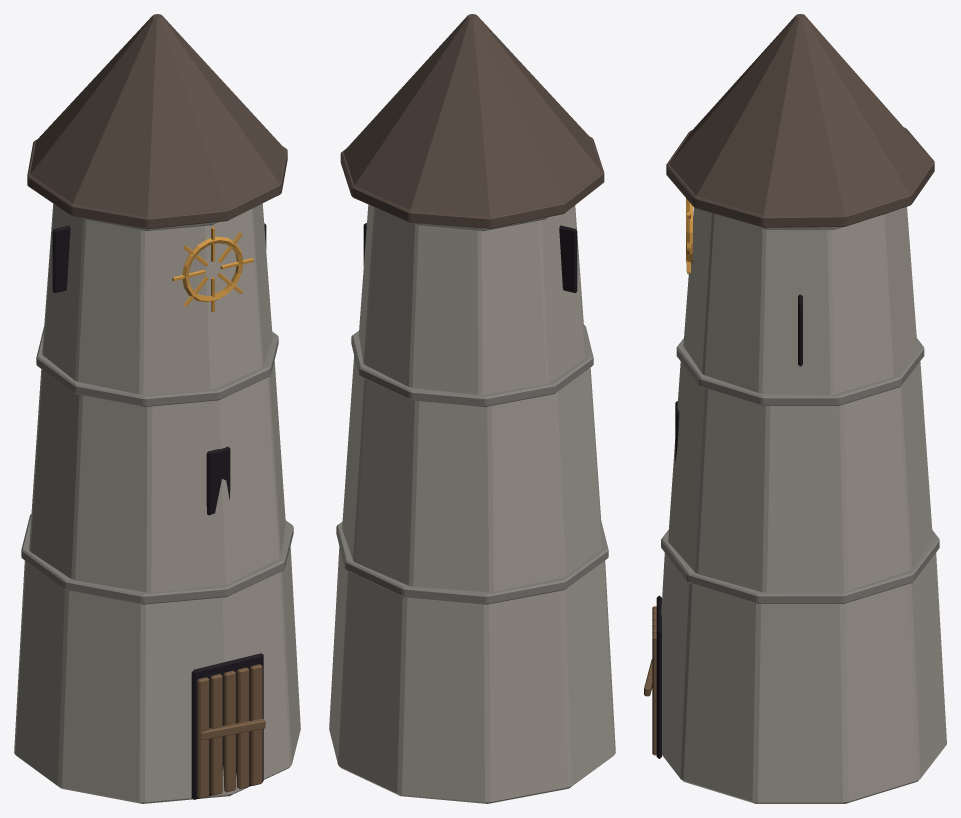
The model's file is silent_tower.glb.
3 views of the same model, side by side, from view 1: azimuth 30°, elevation 25°; view 2: azimuth 150°, elevation 25°; view 3: azimuth 270°, elevation 25° (orthographic).
Parts seen in each view (by area): view 1: silent_tower; view 2: silent_tower; view 3: silent_tower.
Part boxes in pixels (left/top/right/bottom): silent_tower: left=14, top=14, right=300, bottom=803; silent_tower: left=329, top=14, right=615, bottom=803; silent_tower: left=644, top=14, right=946, bottom=803.
Bounding box in the file's own units: 4.37 × 12.55 × 4.72.
